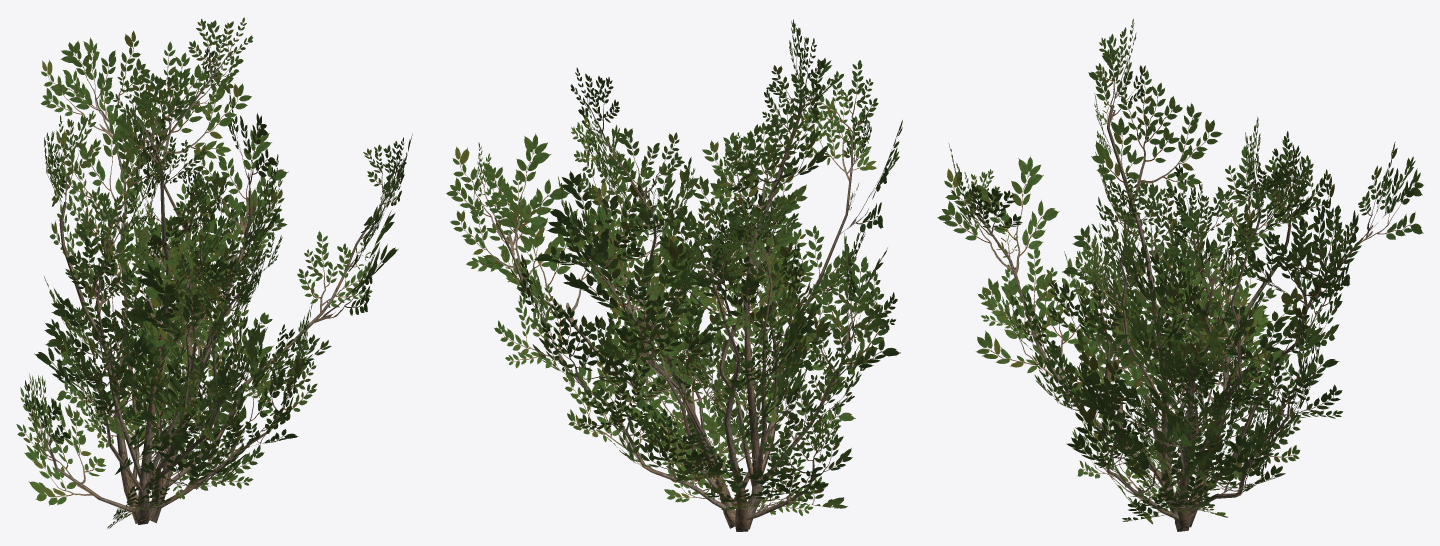
Rendered from bush_a.glb.
The picture shows the model from 3 angles, left to right: view 1: azimuth 30°, elevation 25°; view 2: azimuth 150°, elevation 25°; view 3: azimuth 270°, elevation 25°; orthographic projection.
Parts seen in each view (by area): view 1: bush_a; view 2: bush_a; view 3: bush_a.
Part boxes in pixels (left/top/right/bottom): bush_a: left=16, top=17, right=412, bottom=528; bush_a: left=446, top=19, right=902, bottom=531; bush_a: left=937, top=19, right=1423, bottom=531.
Bounding box in the file's own units: 3.91 × 4.5 × 4.11.
Materials: 2 (2 with a texture image).
